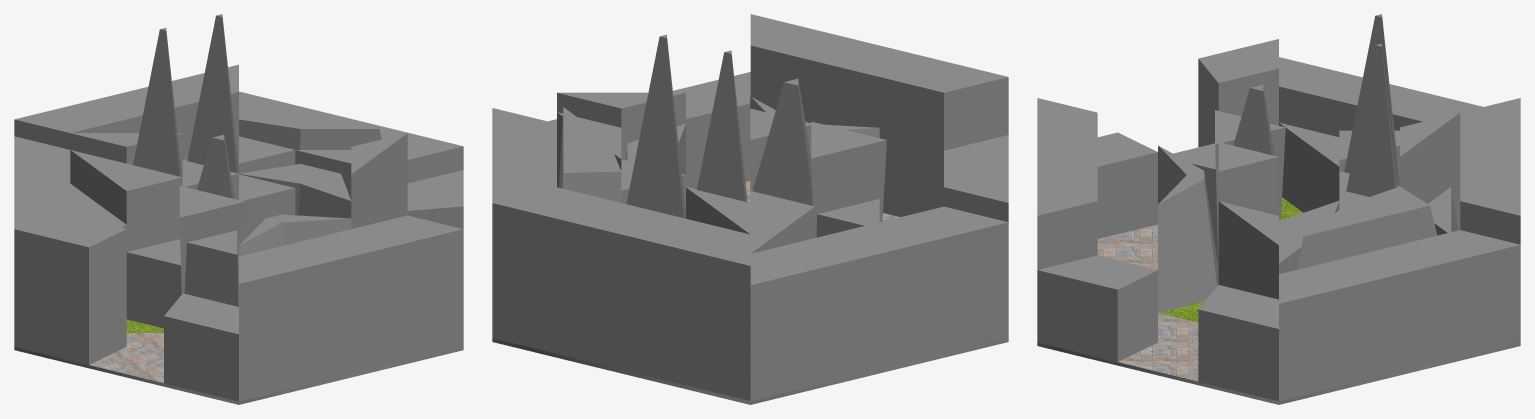
3 views of the same model, side by side, from view 1: azimuth 30°, elevation 25°; view 2: azimuth 150°, elevation 25°; view 3: azimuth 270°, elevation 25° (orthographic). The views are drawn at different scales.
Visible parts, largest first — view 1: Cylinder013; view 2: Cylinder013; view 3: Cylinder013.
Part boxes in pixels (left/top/right/bottom): Cylinder013: left=14, top=14, right=463, bottom=404; Cylinder013: left=492, top=14, right=1008, bottom=404; Cylinder013: left=1037, top=14, right=1520, bottom=404.
Bounding box in the file's own units: 140 × 71 × 121.
Materials: 5 (2 with a texture image).
